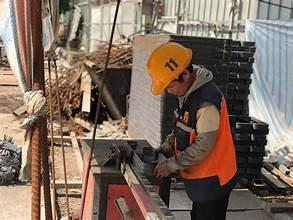Gloves: (152, 156, 179, 178)
Helmet: (146, 41, 192, 96)
Person: (146, 41, 238, 219)
Safety Vest: (172, 69, 238, 186)
